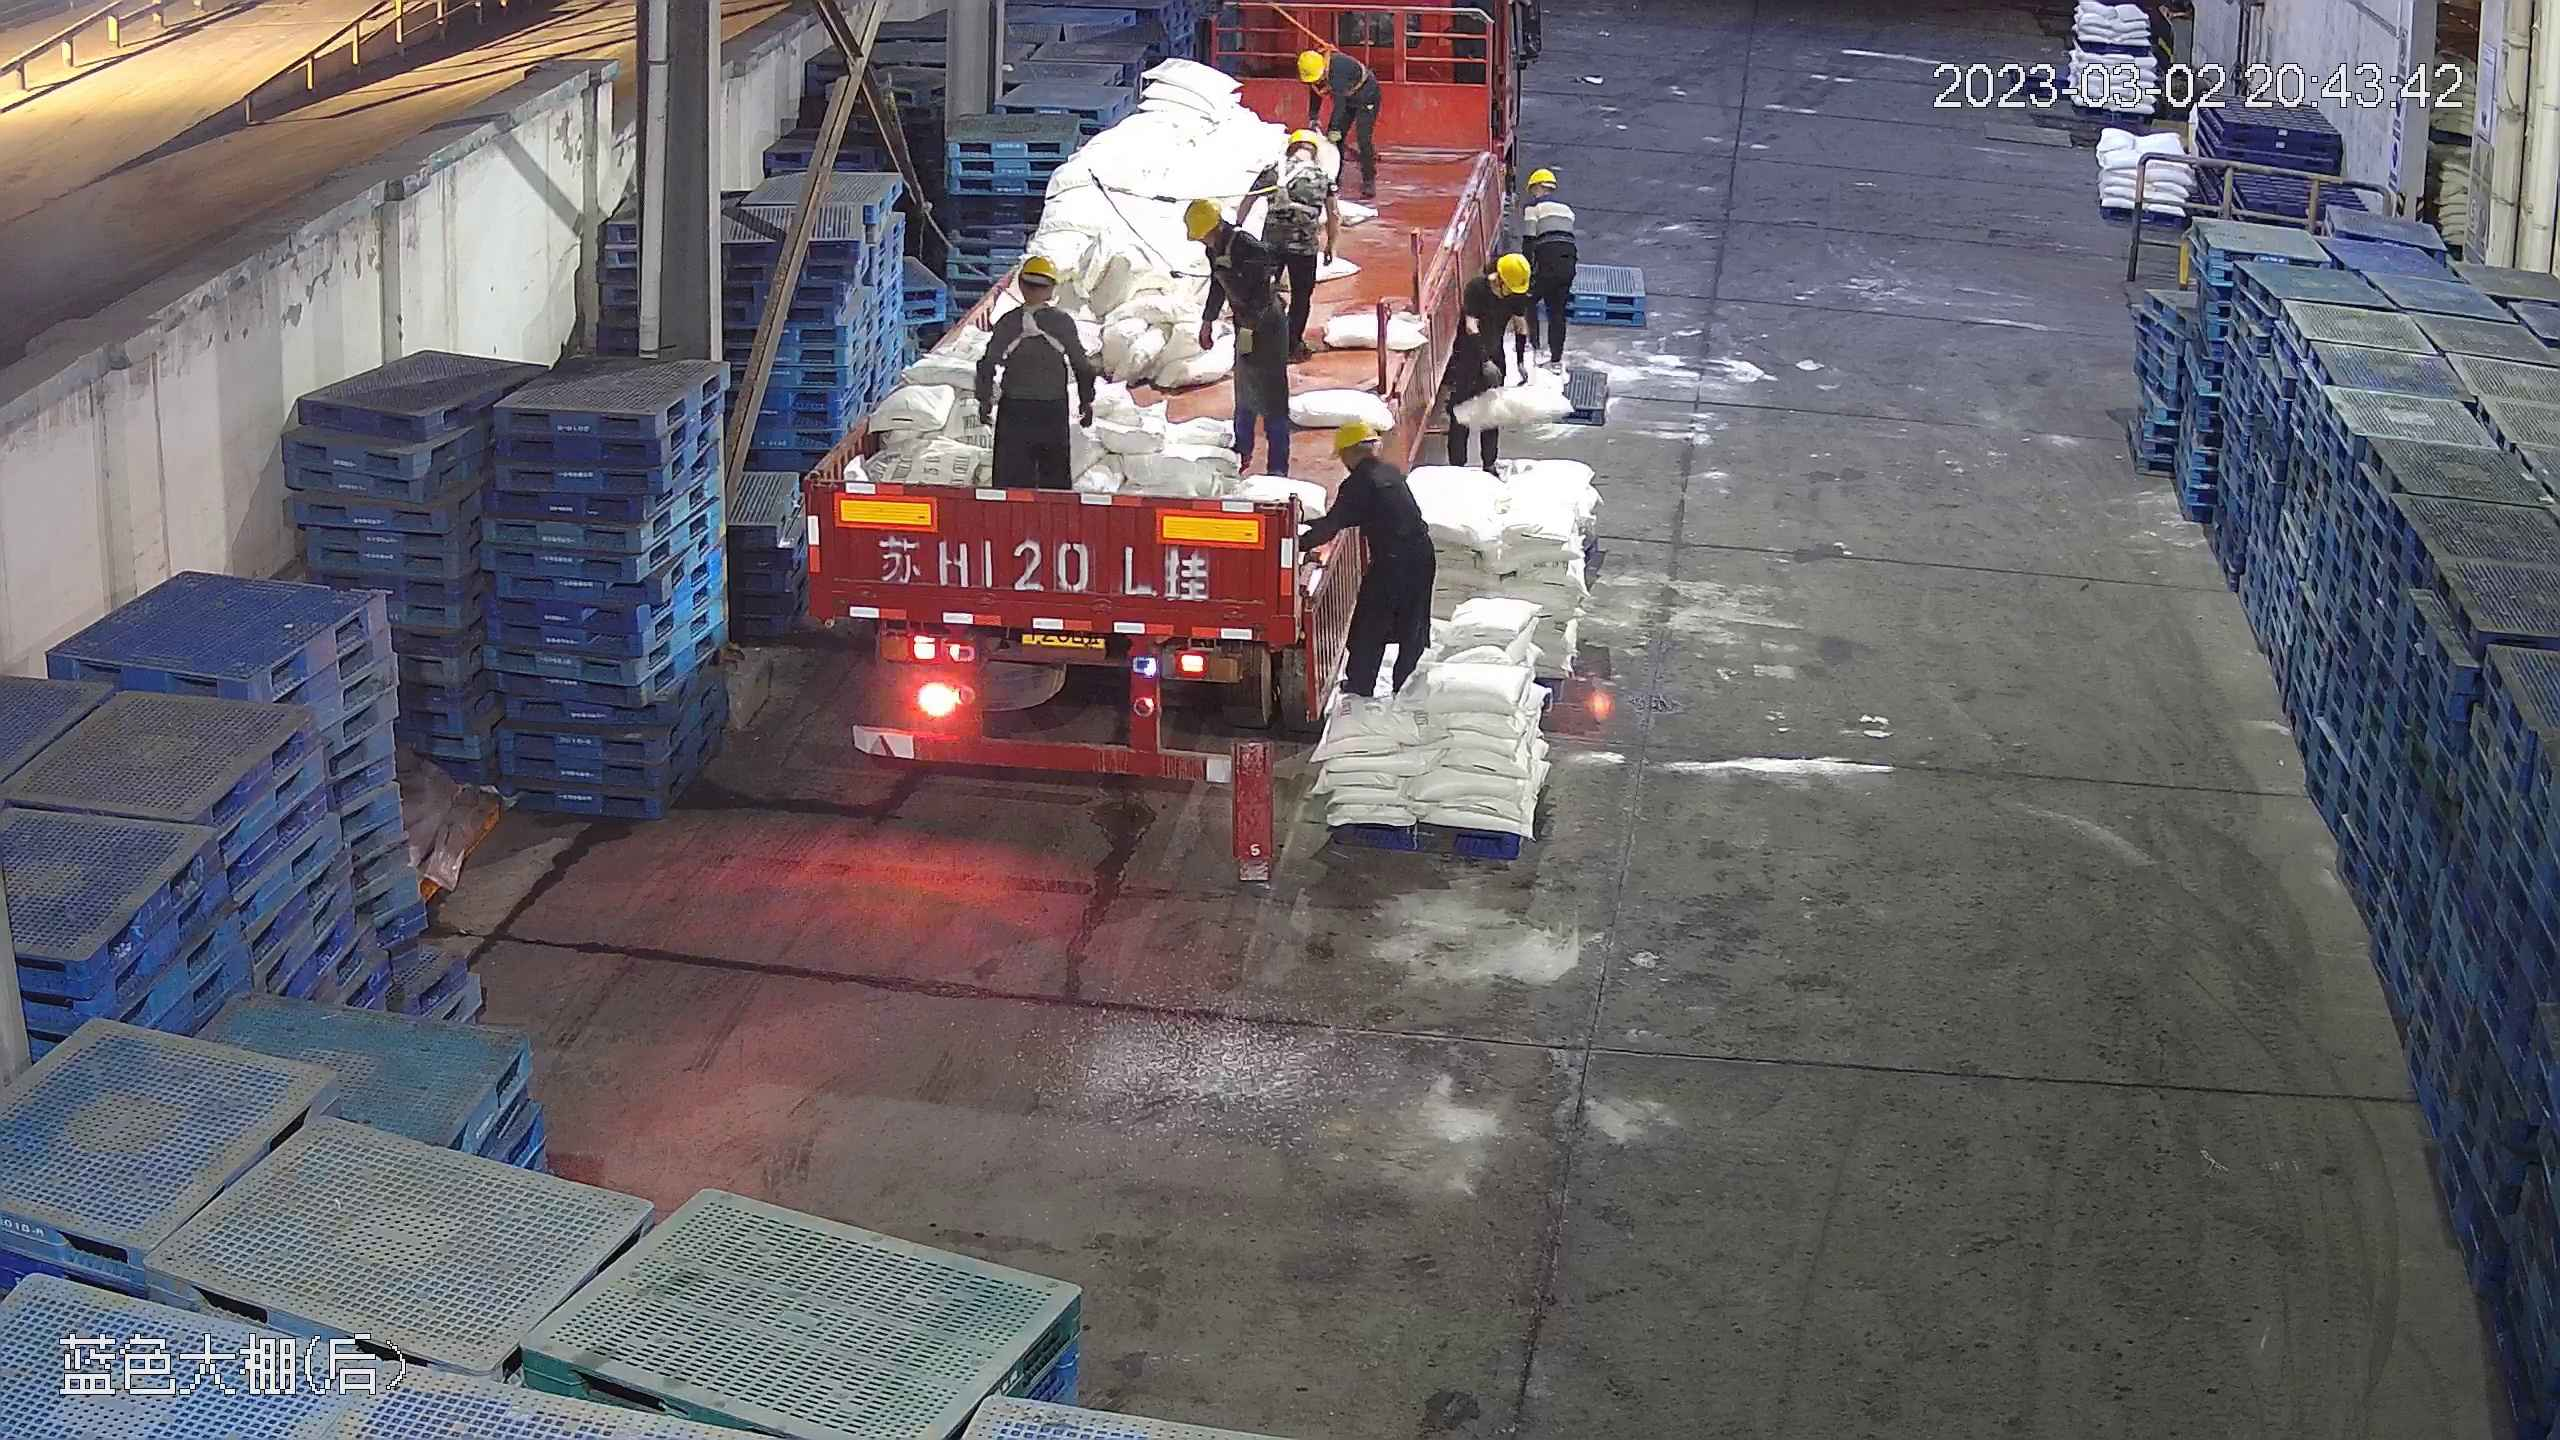belt: (993, 292, 1070, 358), (1259, 162, 1322, 220), (1208, 223, 1246, 270), (1330, 47, 1371, 90)
head: (1320, 419, 1418, 520), (989, 253, 1085, 342), (1185, 193, 1274, 286), (1458, 249, 1531, 328), (1253, 130, 1332, 201), (1294, 45, 1366, 101), (1515, 167, 1572, 230)
helmet: (1183, 194, 1225, 245), (1329, 418, 1377, 454), (1490, 252, 1531, 290), (1013, 253, 1062, 285), (1298, 46, 1329, 83), (1283, 125, 1321, 155), (1525, 166, 1558, 189)
people: (1296, 415, 1433, 712), (971, 249, 1099, 491), (1189, 193, 1298, 472), (1430, 247, 1535, 479), (1245, 126, 1339, 373), (1291, 40, 1385, 205), (1512, 165, 1581, 374)
truck: (816, 7, 1523, 793)
